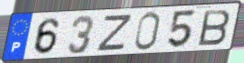0: (134, 10, 162, 53)
3: (67, 13, 96, 55)
5: (167, 8, 199, 50)
6: (33, 16, 63, 56)
B: (196, 8, 232, 47)
Z: (94, 13, 136, 53)
